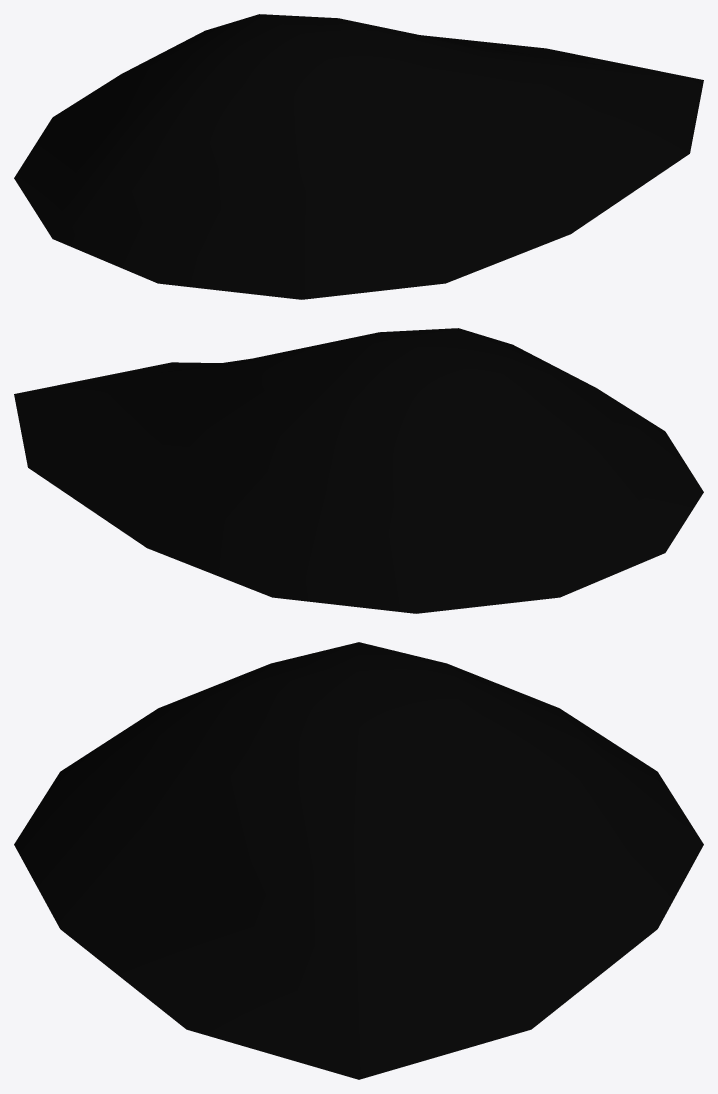
The model's file is Char_VT_TwistVineSand.FBX.
3 views of the same model, one above another, from view 1: azimuth 30°, elevation 25°; view 2: azimuth 150°, elevation 25°; view 3: azimuth 270°, elevation 25° (orthographic). The views are drawn at different scales.
Parts seen in each view (by area): view 1: Sphere002; view 2: Sphere002; view 3: Sphere002.
Boxes of the visible parts, box(x1,y1,x2,y2) form: Sphere002: box(14, 14, 703, 299); Sphere002: box(14, 328, 703, 613); Sphere002: box(14, 642, 703, 1079).
Bounding box in the file's own units: 38.47 × 8.14 × 29.44.
